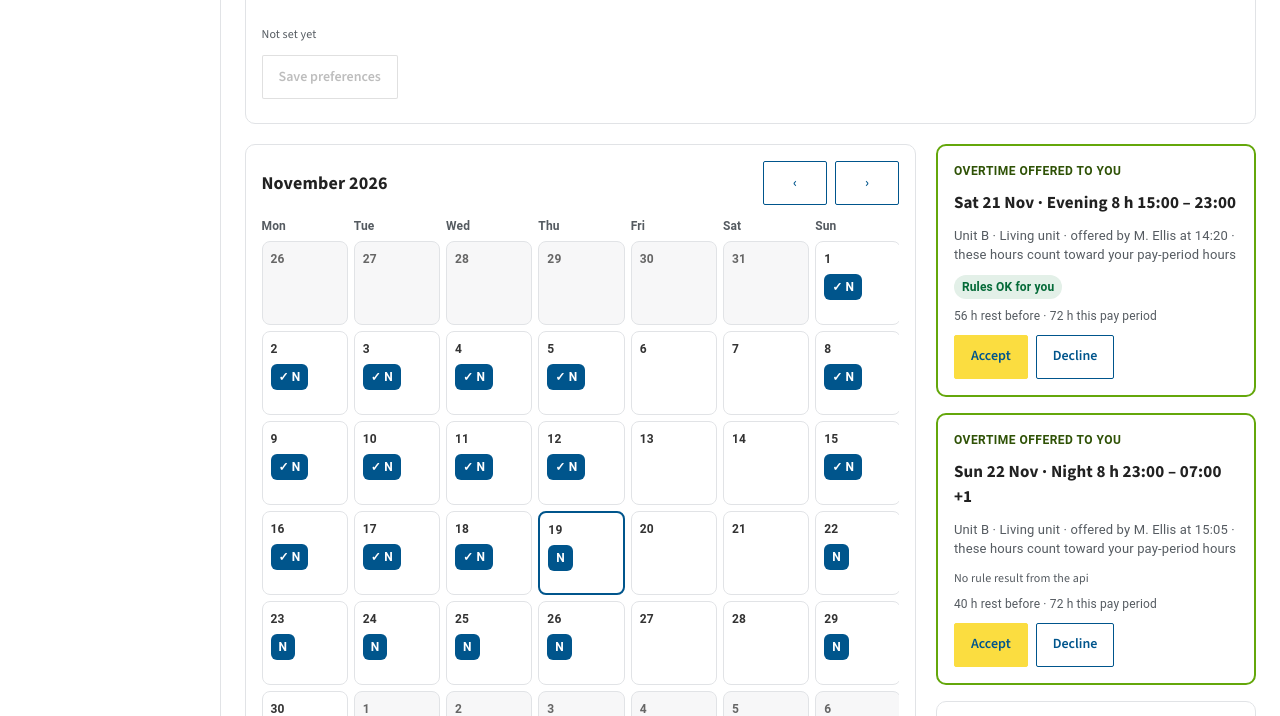
Test: the employee My schedule › records the acceptance and says the supervisor confirms it
(page scrolled)
Click the button "Accept" below "56 h rest before · 72 h this pay period": (991, 357) [954,335,1028,379]
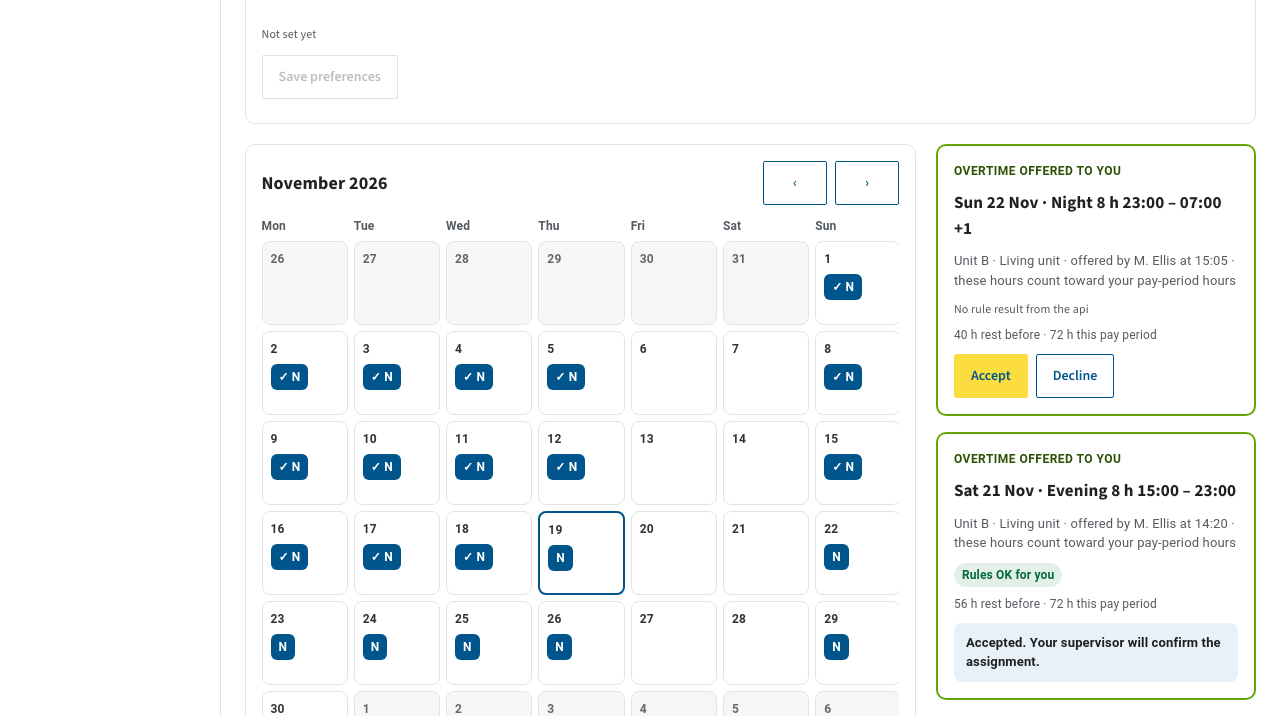
Expected: the text "Accepted. Your supervisor will confirm the assignment." is shown, [954,623,1238,682]
